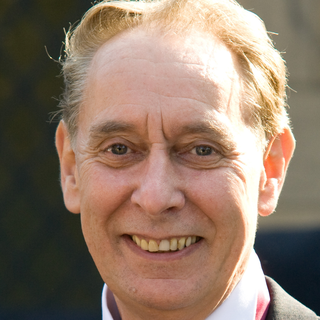eye: (178, 139, 227, 164), (95, 139, 142, 164)
